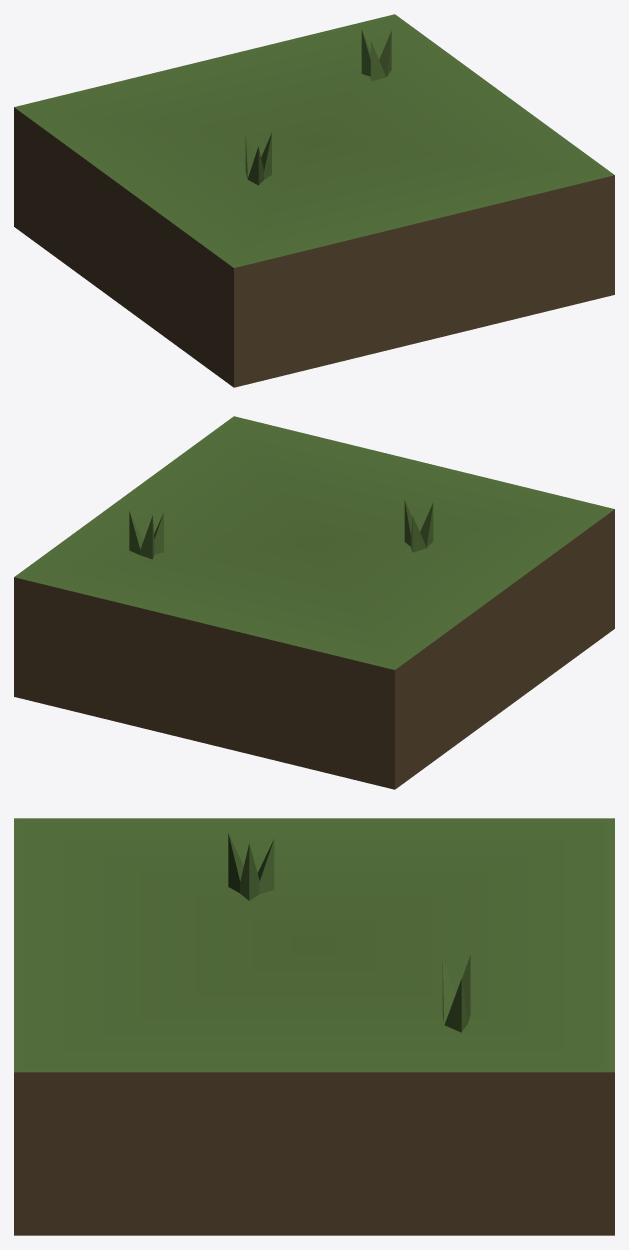
File: tile_grass.glb
3 renders of one model, top to bottom at view 1: azimuth 30°, elevation 25°; view 2: azimuth 150°, elevation 25°; view 3: azimuth 270°, elevation 25°, orthographic. The views are drawn at different scales.
Parts seen in each view (by area): view 1: tile_grass; view 2: tile_grass; view 3: tile_grass.
Part boxes in pixels (x1,y1,x2,y2): tile_grass: [14, 14, 614, 387]; tile_grass: [14, 416, 614, 789]; tile_grass: [14, 818, 614, 1235].
Bounding box in the file's own units: 1 × 0.4115 × 1.
